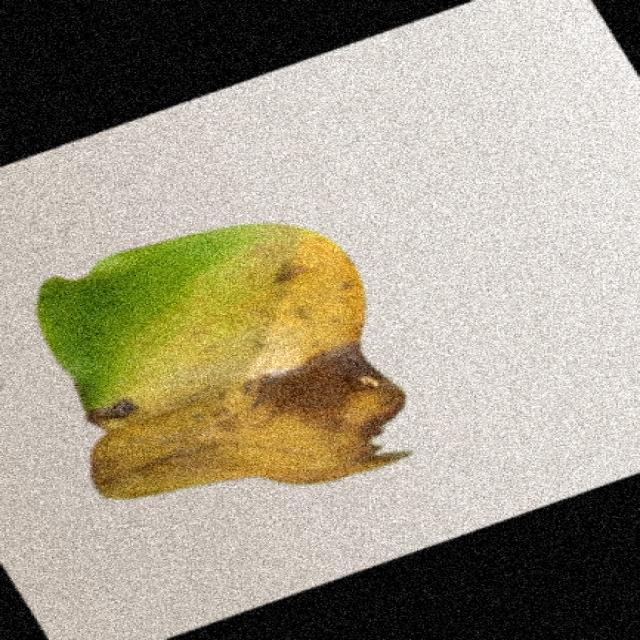daun berpenyakit kuning: (38, 225, 405, 498)
